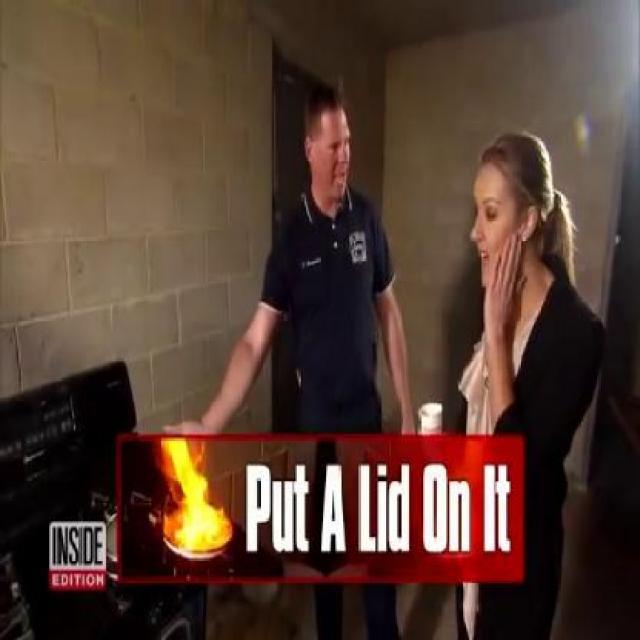fire: (150, 440, 230, 554)
